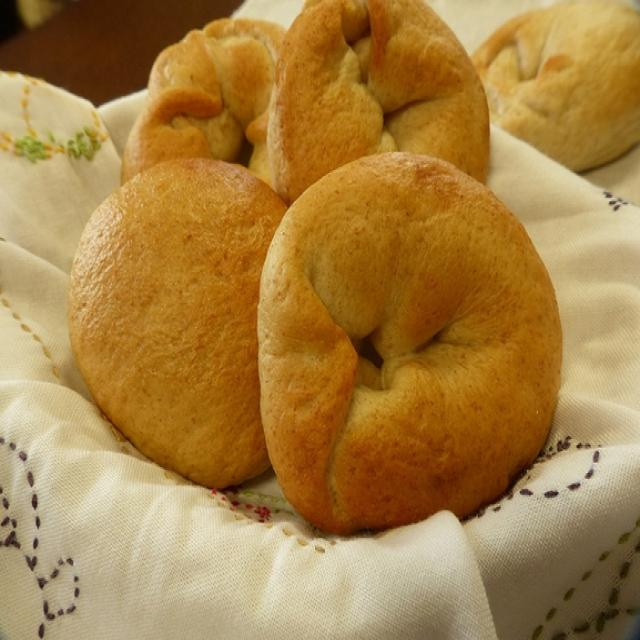面包点心: (23, 13, 609, 578)
